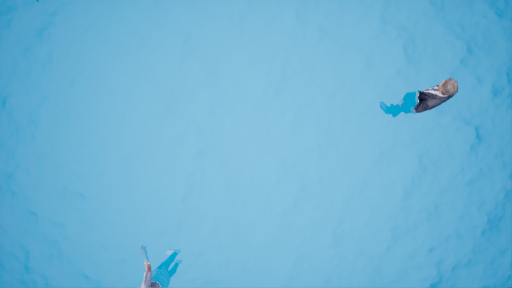person: (373, 74, 463, 114), (130, 238, 189, 288)
